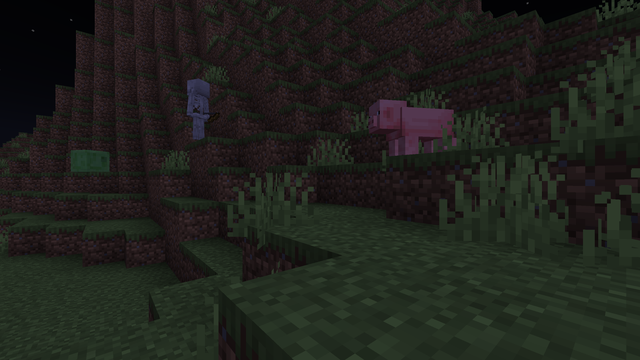cochons: (383, 101, 453, 159)
slimes: (74, 148, 104, 171)
squelettes: (187, 77, 210, 140)
